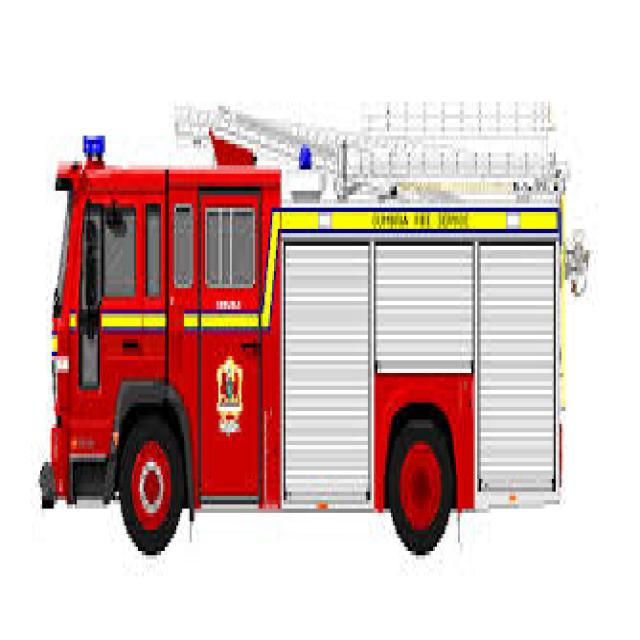Fire_brigade: (29, 76, 582, 594)
